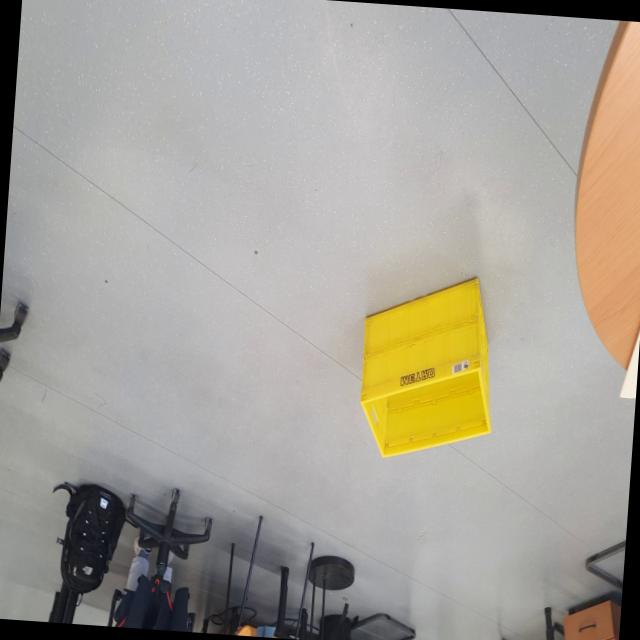box: (352, 264, 502, 478)
